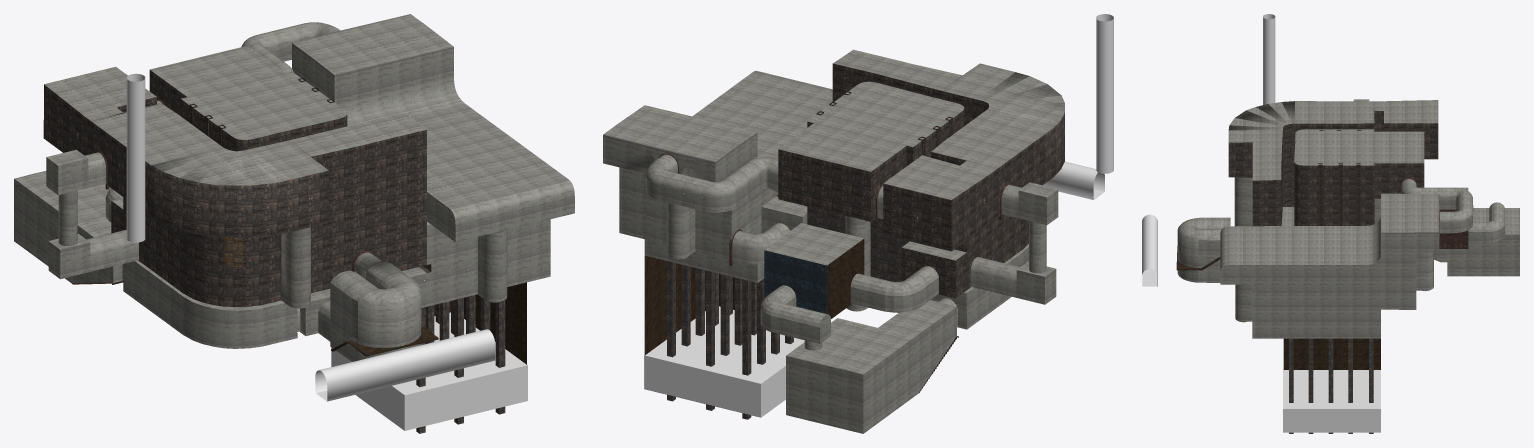
The picture shows the model from 3 angles, left to right: view 1: azimuth 30°, elevation 25°; view 2: azimuth 150°, elevation 25°; view 3: azimuth 270°, elevation 25°; orthographic projection. The views are drawn at different scales.
Parts seen in each view (by area): view 1: Polygon, DeathZone1, Cylinder002, Cylinder004; view 2: Polygon, DeathZone1, Cylinder004, Cylinder002; view 3: Polygon, DeathZone1, Cylinder004, Cylinder002.
Part boxes in pixels (x1=…): Polygon: x1=14, y1=14, x2=574, y2=433; DeathZone1: x1=331, y1=312, x2=527, y2=430; Cylinder002: x1=315, y1=329, x2=495, y2=401; Cylinder004: x1=126, y1=73, x2=145, y2=242; Polygon: x1=603, y1=49, x2=1064, y2=433; DeathZone1: x1=644, y1=306, x2=804, y2=417; Cylinder004: x1=1096, y1=14, x2=1113, y2=173; Cylinder002: x1=1043, y1=161, x2=1104, y2=199; Polygon: x1=1176, y1=99, x2=1519, y2=433; DeathZone1: x1=1283, y1=369, x2=1380, y2=432; Cylinder004: x1=1263, y1=14, x2=1275, y2=104; Cylinder002: x1=1142, y1=214, x2=1157, y2=286.
Bounding box in the file's own units: 32.45 × 32.73 × 38.31.
